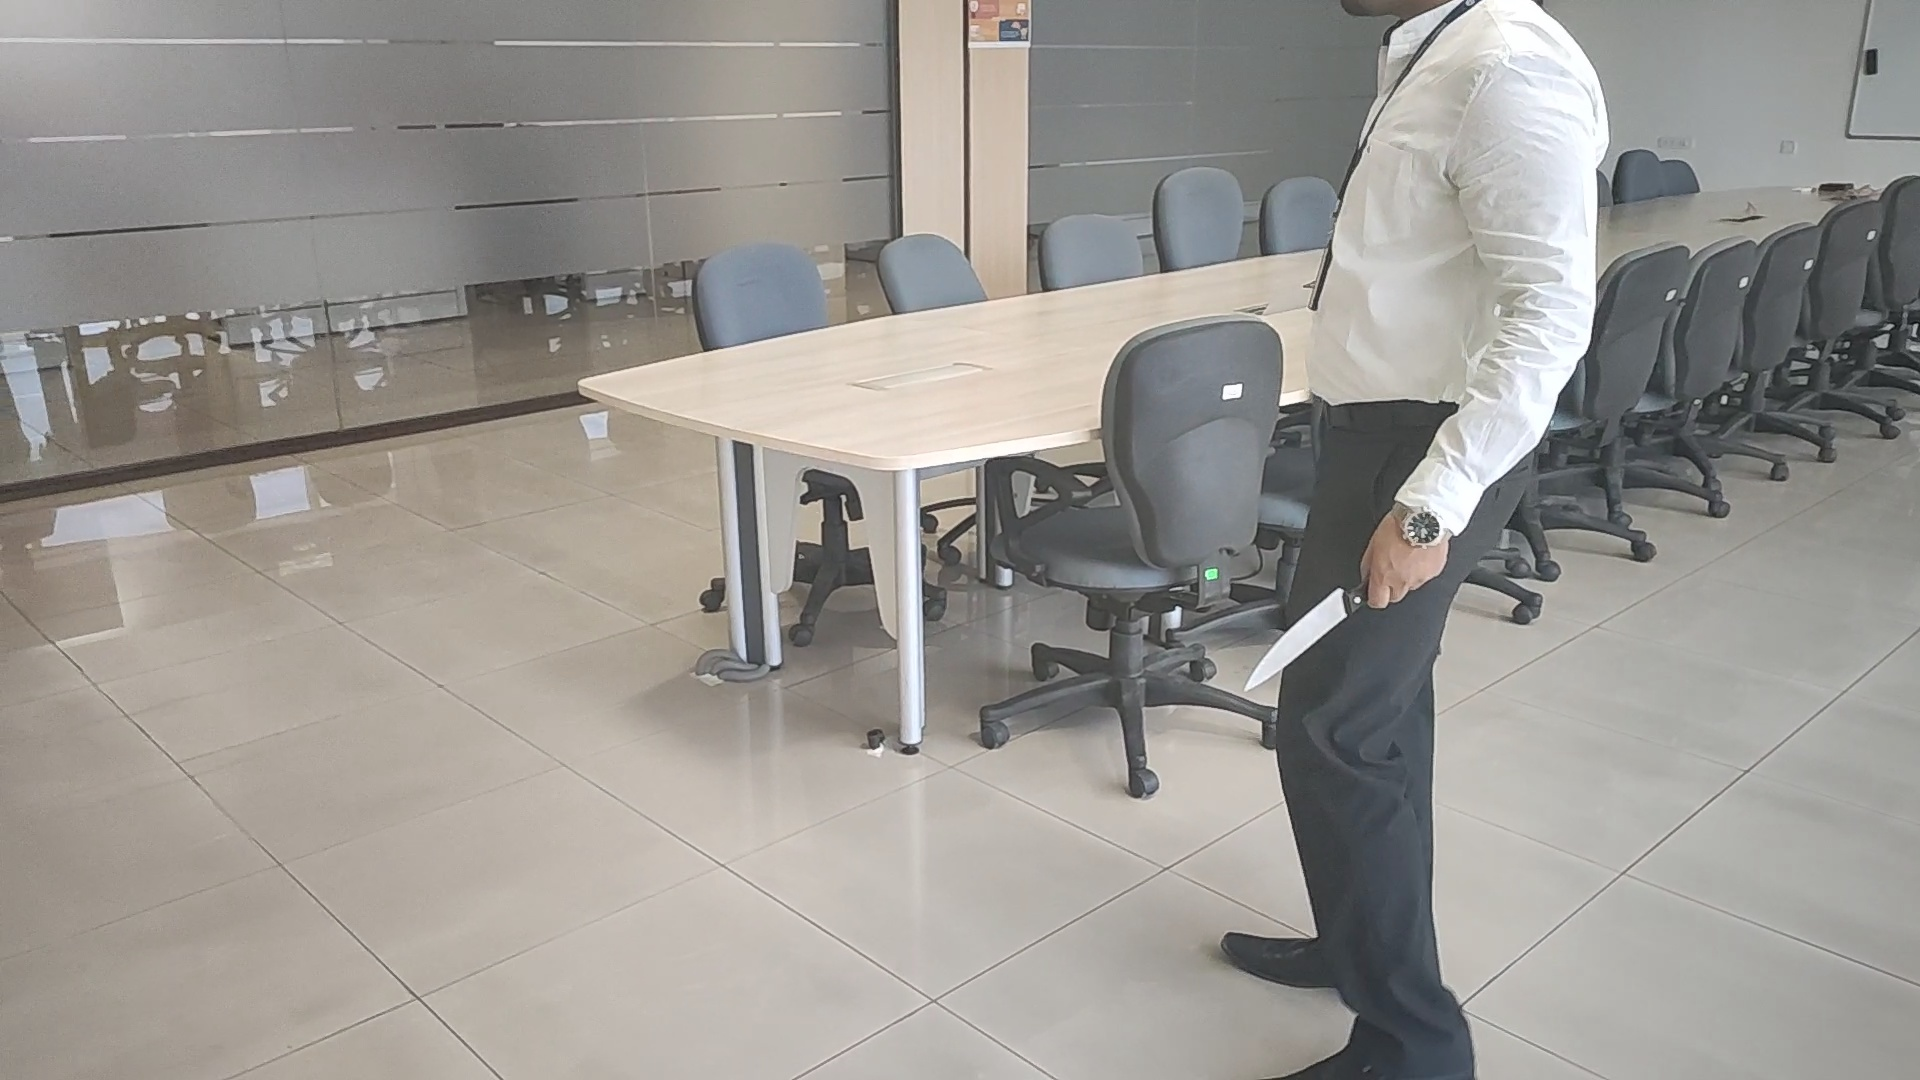knife: (1236, 580, 1370, 694)
